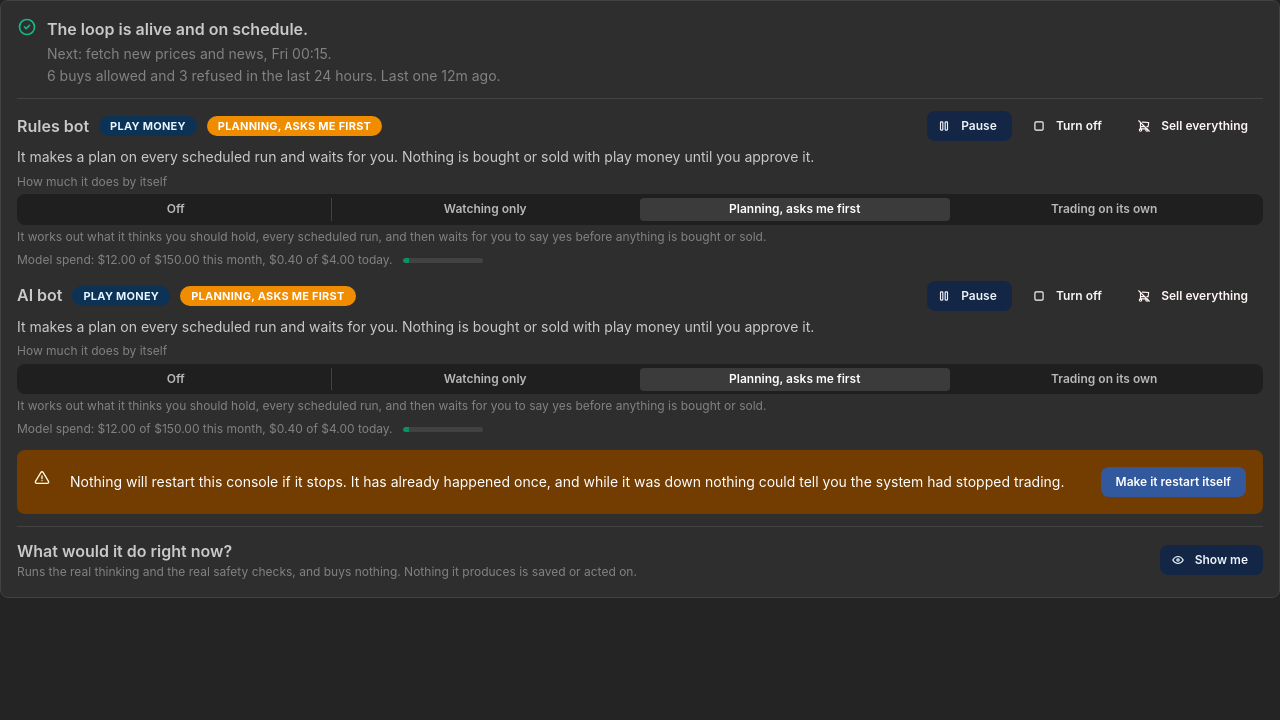
Test: Home on a blocked host › offers to make the console restart itself when nothing does
Expected: the message with test id "supervisor-warning" shows "Nothing will restart this console", [70,473,1064,490]
Click the button with test id "install-supervisor".
click(1173, 482)  # box [1101,467,1246,497]
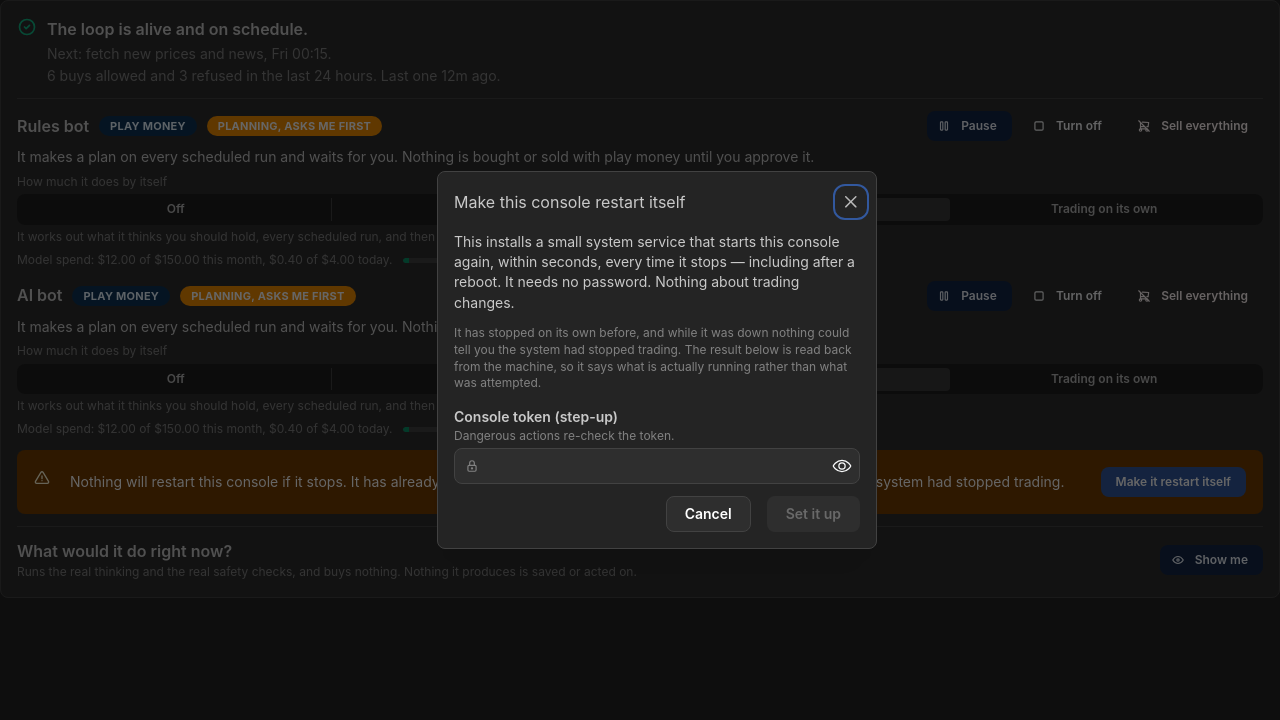
Expected: the dialog shows "starts this console again", [454,233,855,311]
Expected: the dialog shows "needs no password", [454,233,855,311]
